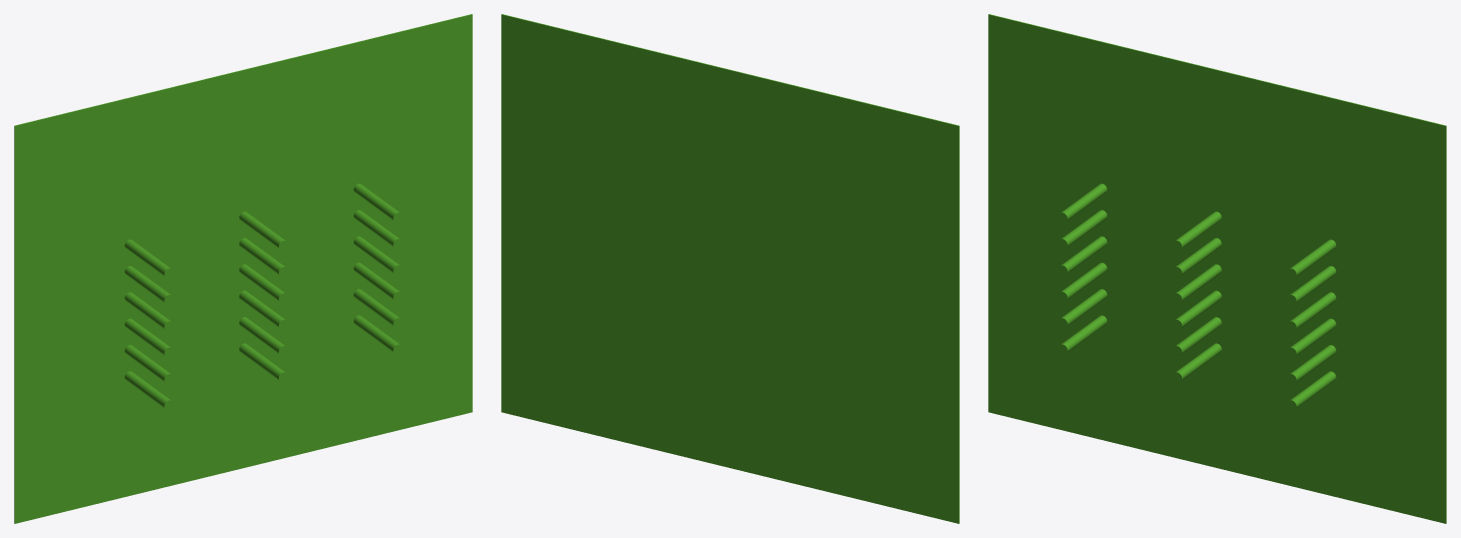
Rendered from orchard_s.dae.
3 views of the same model, side by side, from view 1: azimuth 30°, elevation 25°; view 2: azimuth 150°, elevation 25°; view 3: azimuth 330°, elevation 25° (orthographic).
Size of the model in its own units: 20 by 16.6 by 3.05.
